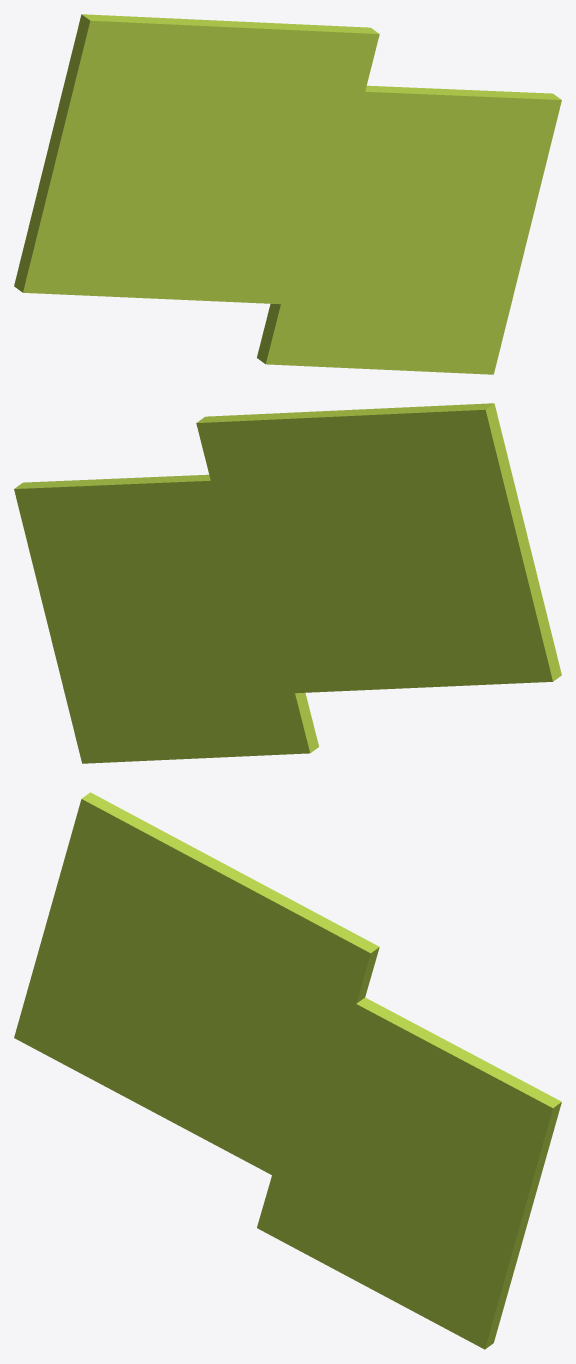
3 renders of one model, top to bottom at view 1: azimuth 30°, elevation 25°; view 2: azimuth 150°, elevation 25°; view 3: azimuth 330°, elevation 25°, orthographic.
Visible parts, largest first — view 1: osm-way27917482-F-1; view 2: osm-way27917482-F-1; view 3: osm-way27917482-F-1.
Boxes of the visible parts, x1=… form: osm-way27917482-F-1: x1=14, y1=14, x2=561, y2=374; osm-way27917482-F-1: x1=14, y1=403, x2=561, y2=763; osm-way27917482-F-1: x1=14, y1=792, x2=561, y2=1349.
Bounding box in the file's own units: 5.23 × 4.19 × 0.15.
